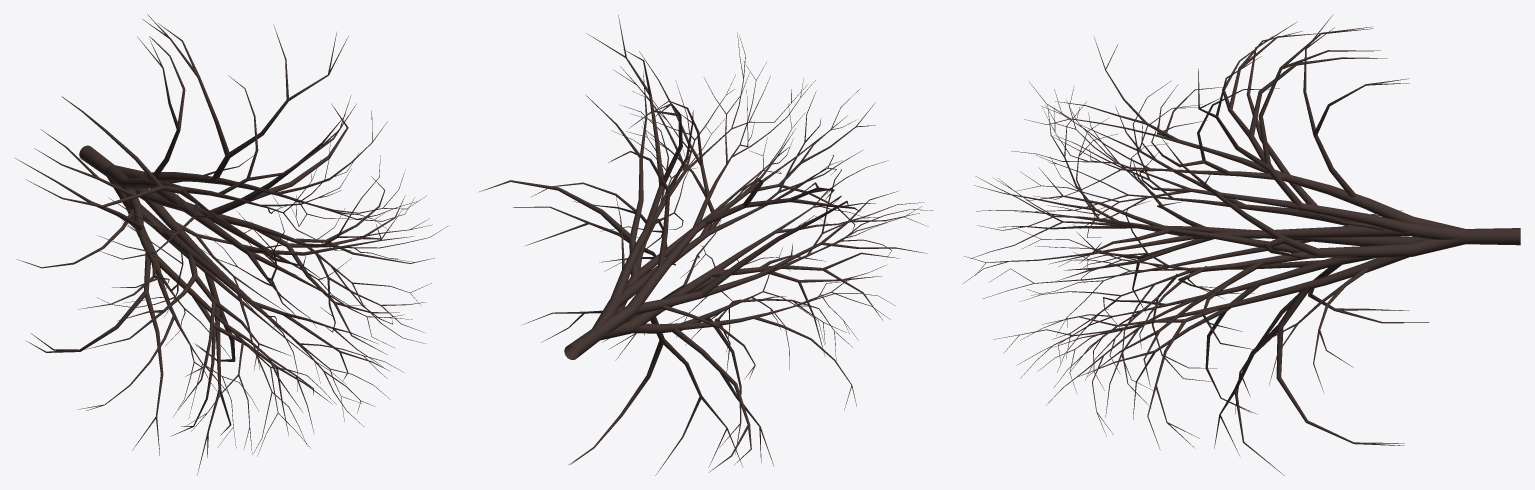
The model's file is ArvoreGrande.fbx.
3 renders of one model, left to right at view 1: azimuth 30°, elevation 25°; view 2: azimuth 150°, elevation 25°; view 3: azimuth 270°, elevation 25°, orthographic. The views are drawn at different scales.
Visible parts, largest first — view 1: ArvoreMortaGrande; view 2: ArvoreMortaGrande; view 3: ArvoreMortaGrande.
Part boxes in pixels (<box>): ArvoreMortaGrande: <box>15,14,449,475</box>; ArvoreMortaGrande: <box>478,15,933,475</box>; ArvoreMortaGrande: <box>963,14,1520,475</box>.
Size of the model in its own units: 397 by 424 by 475.
